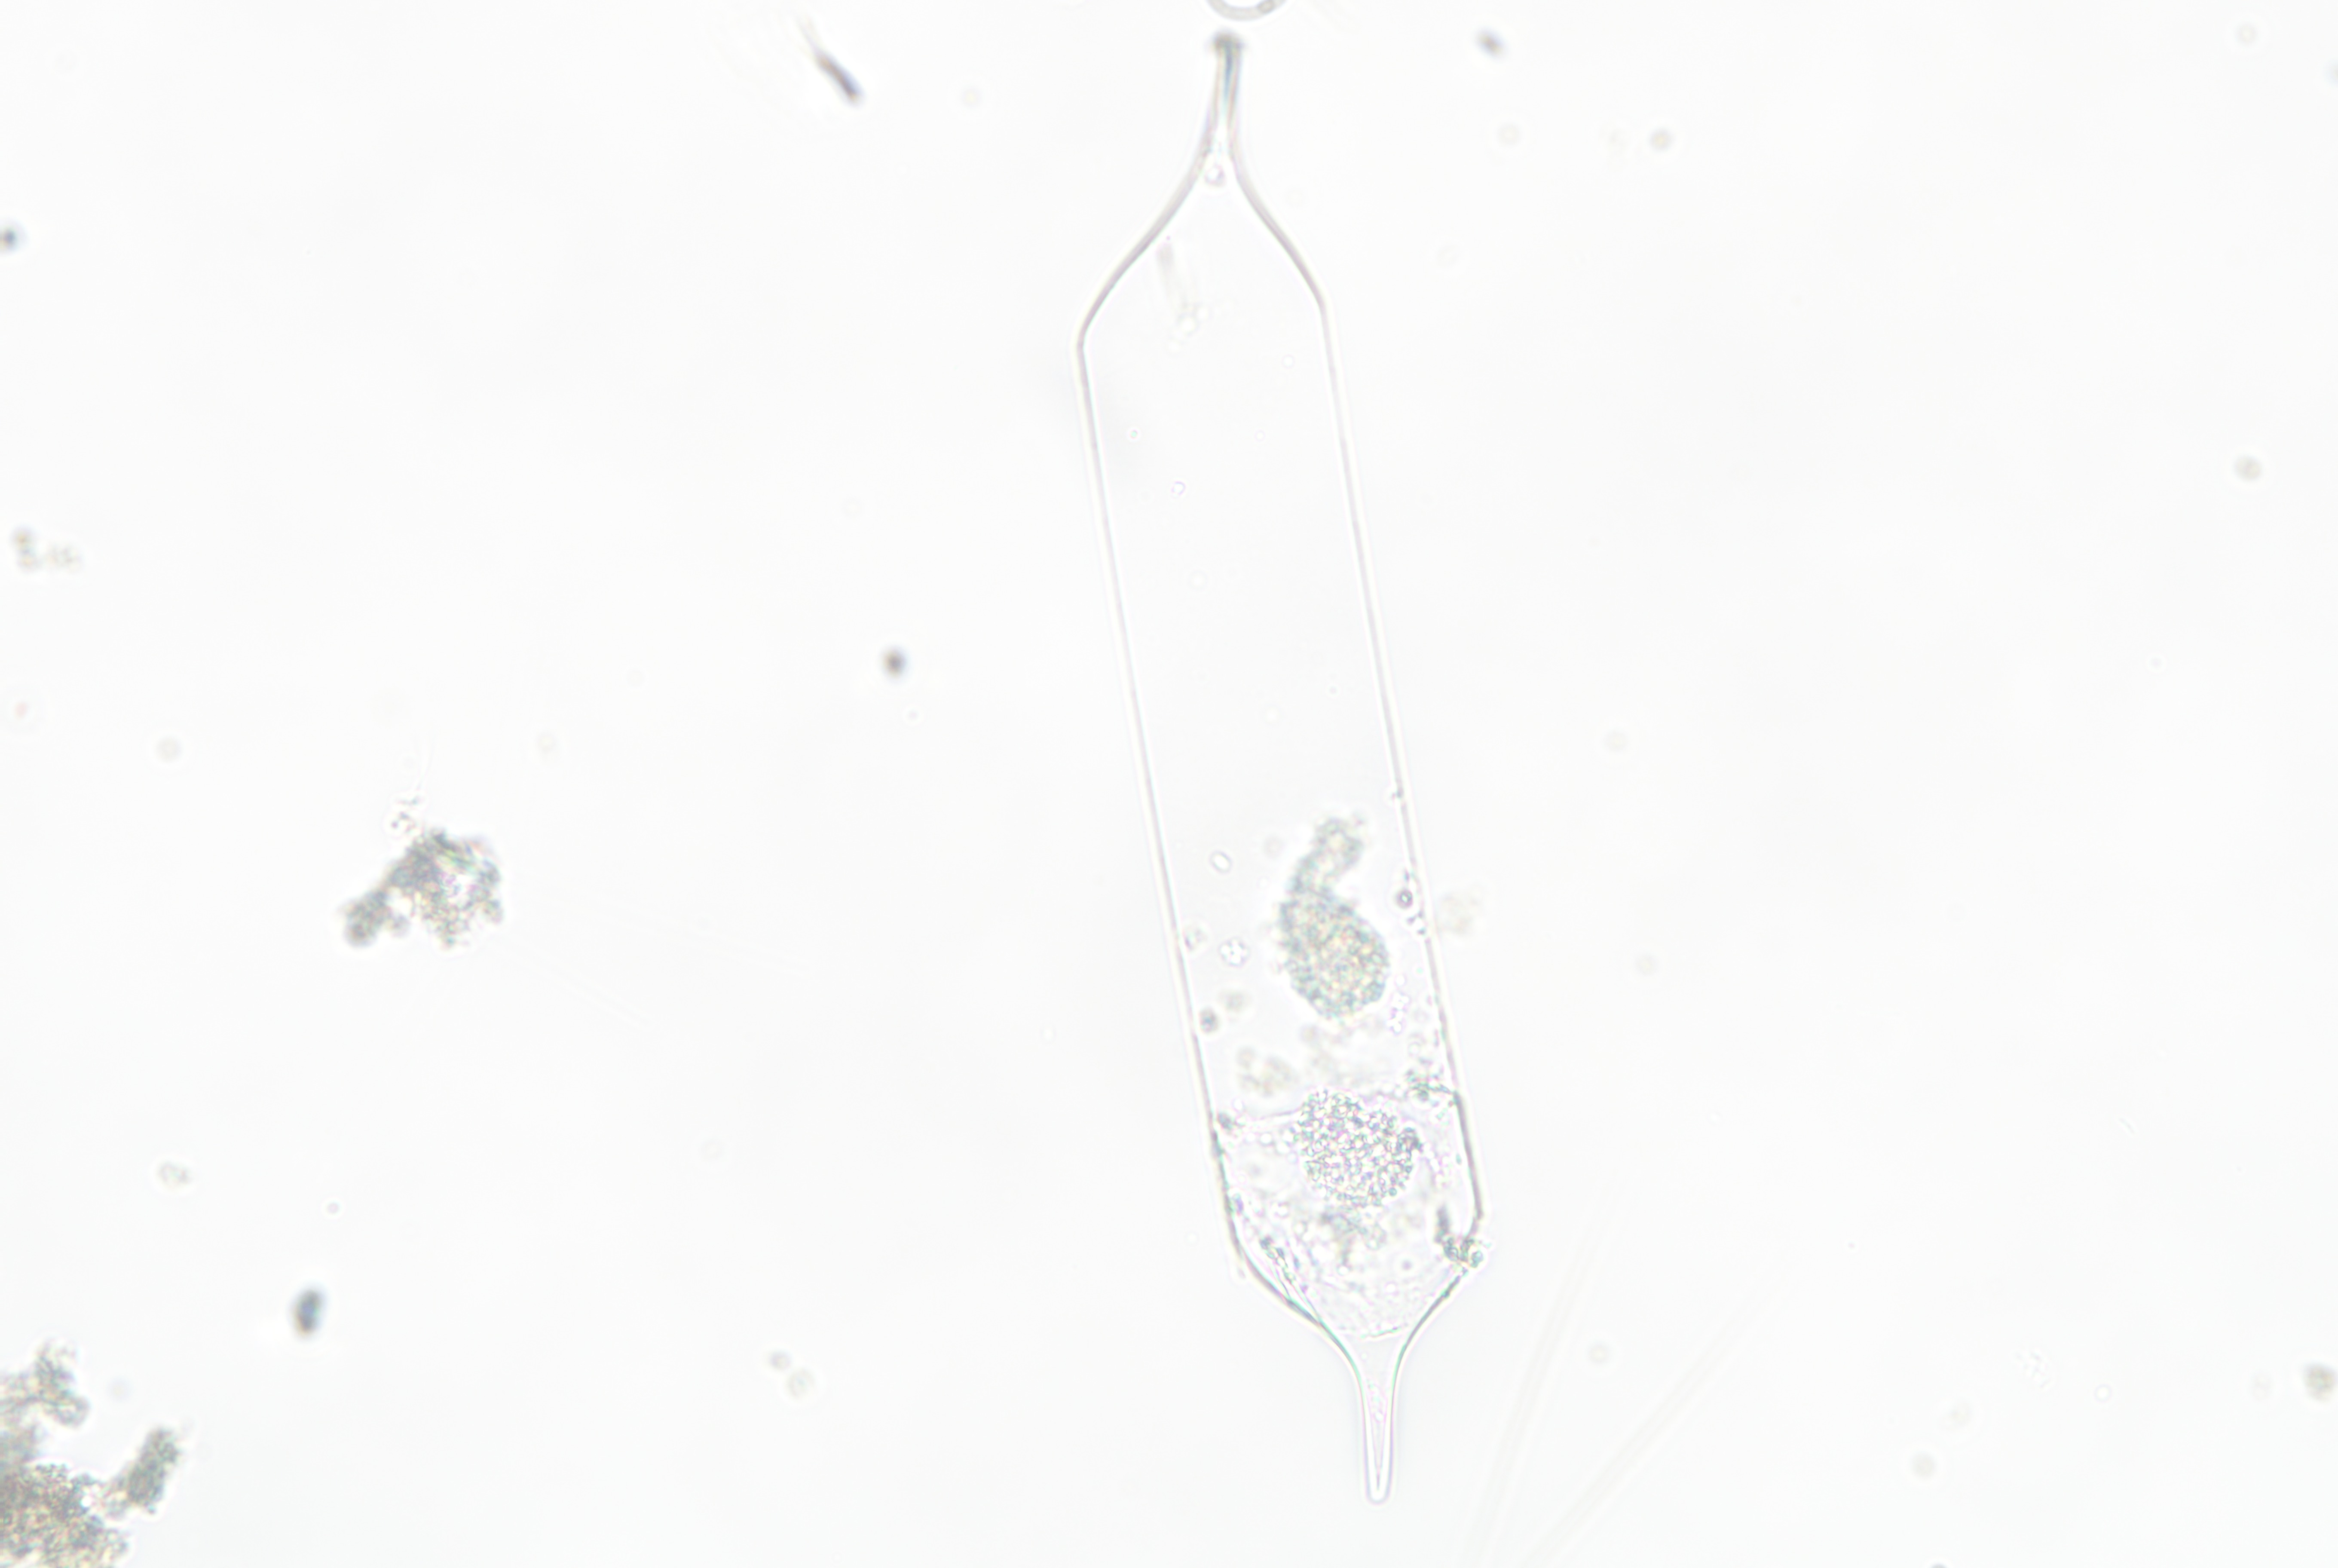rhizosolenia: (1018, 24, 1533, 1543)
